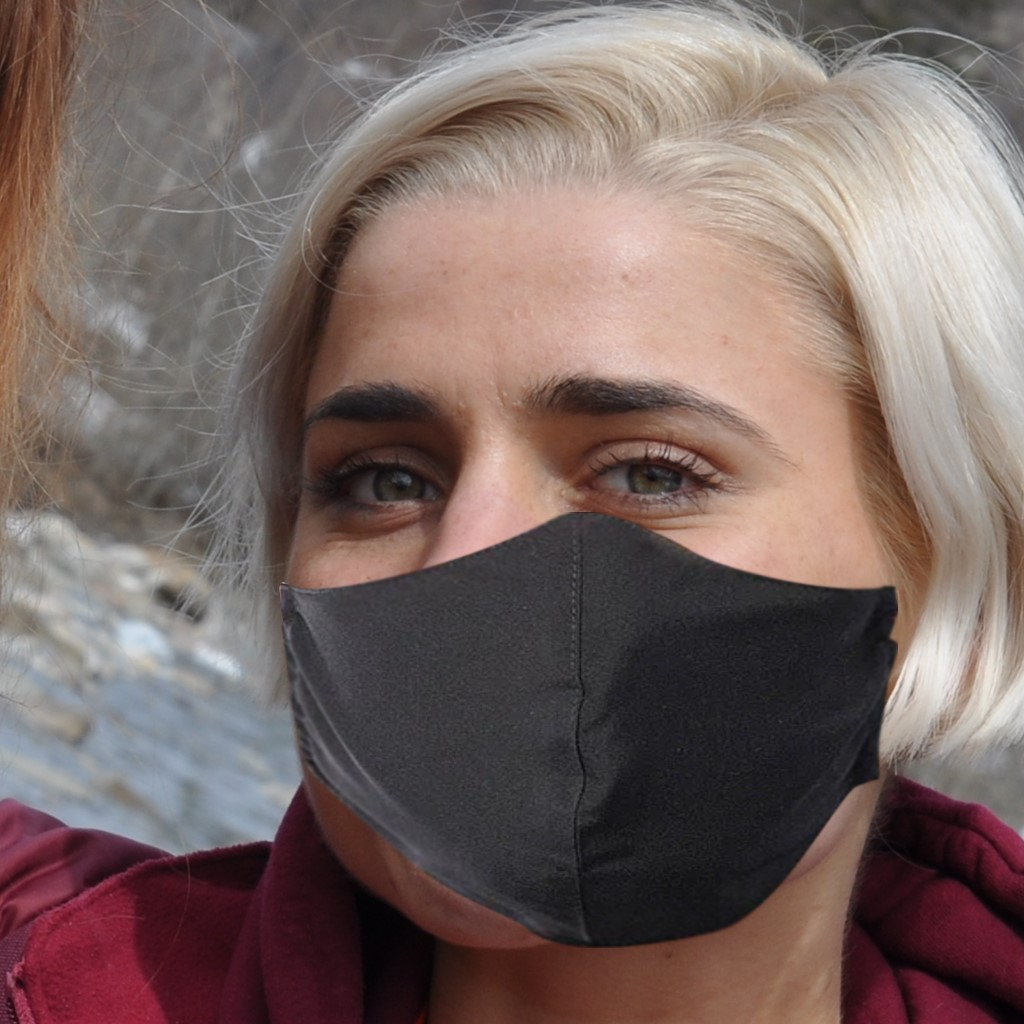con_mascara: (269, 187, 901, 946)
